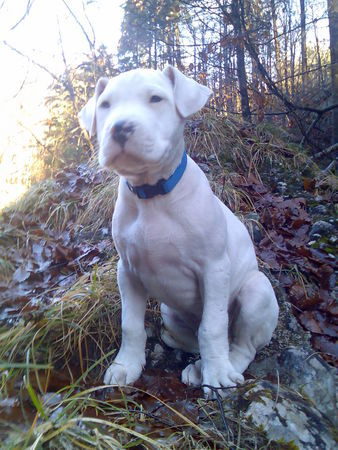dogo_argentino: (77, 65, 279, 398)
